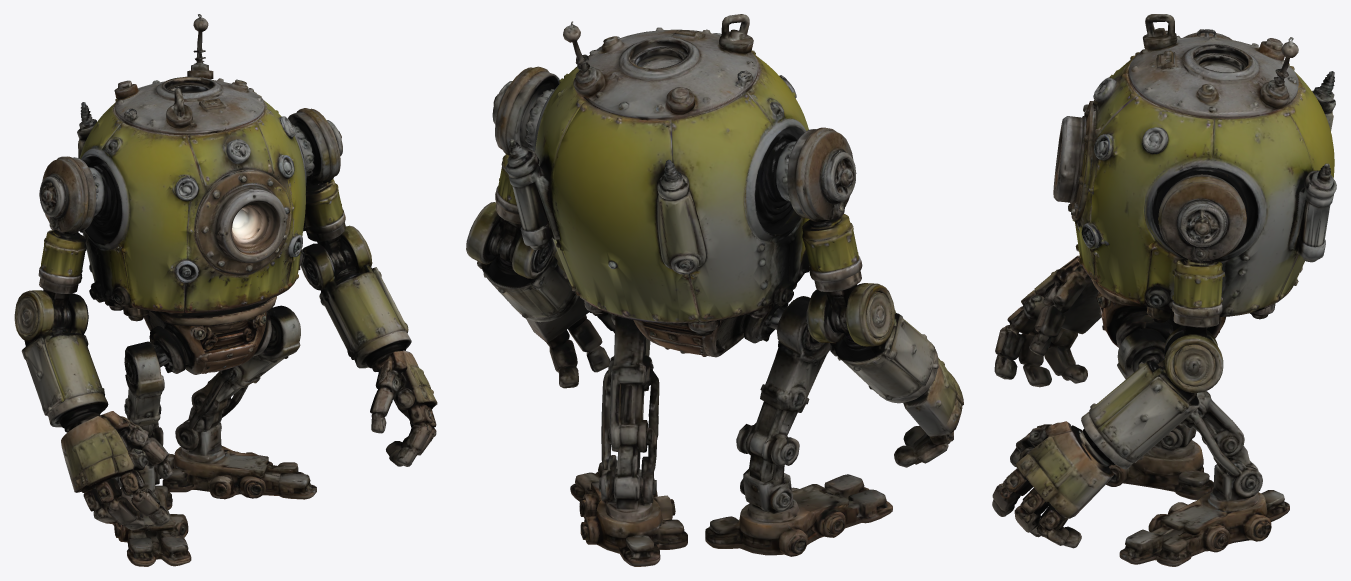
File: pixellabs-industrial-robot-4975.glb
3 renders of one model, left to right at view 1: azimuth 30°, elevation 25°; view 2: azimuth 150°, elevation 25°; view 3: azimuth 270°, elevation 25°, orthographic. The views are drawn at different scales.
Visible parts, largest first — view 1: node_0; view 2: node_0; view 3: node_0.
Boxes of the visible parts, left/top/right/bottom form: node_0: left=14, top=14, right=437, bottom=566; node_0: left=466, top=14, right=963, bottom=566; node_0: left=992, top=14, right=1336, bottom=566.
Bounding box in the file's own units: 0.8607 × 1.01 × 0.6268.
Materials: 1 (1 with a texture image).
